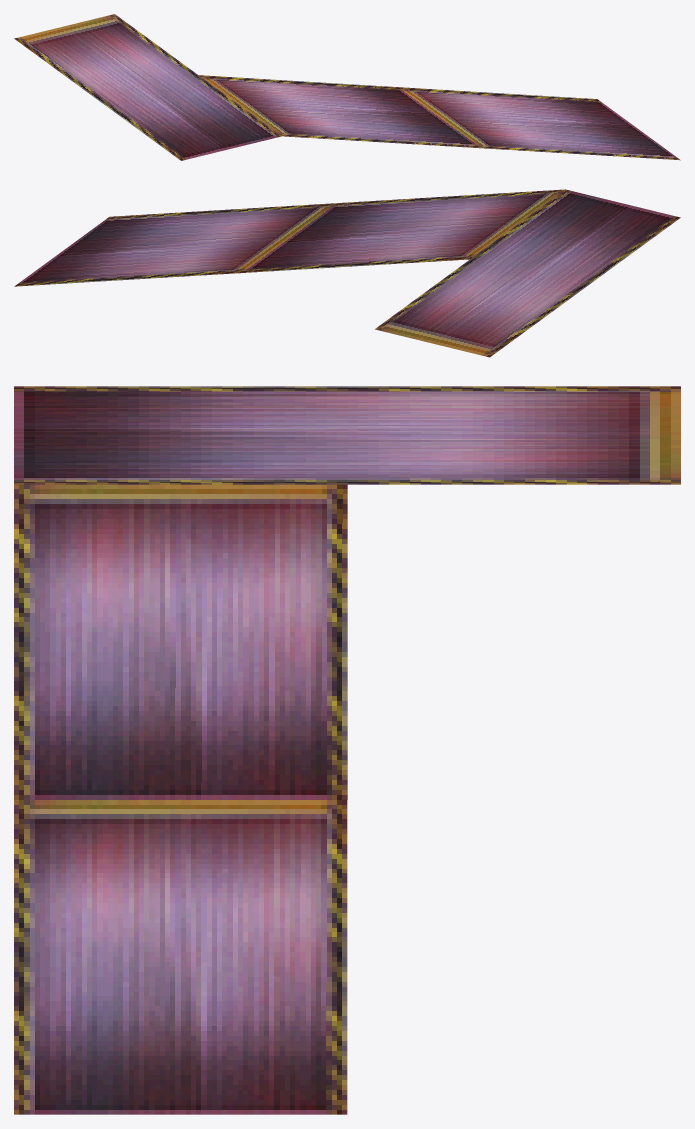
Rendered from Ramp06.glb.
3 views of the same model, one above another, from view 1: azimuth 30°, elevation 25°; view 2: azimuth 150°, elevation 25°; view 3: azimuth 270°, elevation 25° (orthographic). The views are drawn at different scales.
Visible parts, largest first — view 1: Ramp06; view 2: Ramp06; view 3: Ramp06.
Boxes of the visible parts, x1,y1,x2,y2 form: Ramp06: (14,14,680,160); Ramp06: (14,189,680,357); Ramp06: (14,386,680,1114).
Bounding box in the file's own units: 4546 × 1053 × 2634.
1 material, 1 textured.
